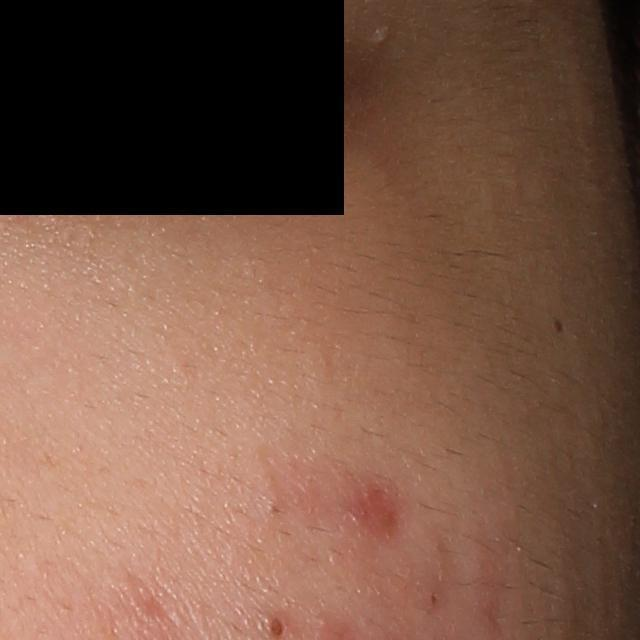nevus: (552, 318, 566, 334)
